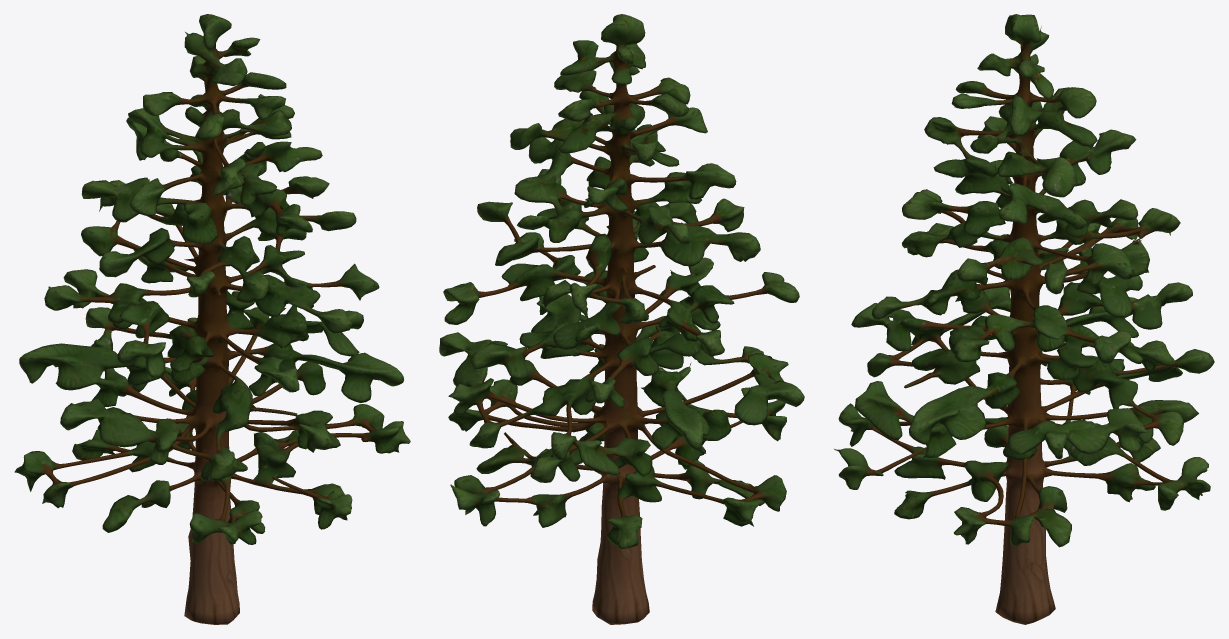
The model's file is woodland_tree_02.glb.
3 renders of one model, left to right at view 1: azimuth 30°, elevation 25°; view 2: azimuth 150°, elevation 25°; view 3: azimuth 270°, elevation 25°, orthographic.
Visible parts, largest first — view 1: tripo_node_e1df4243-b33a-4973-bbff-0929c81ec6d9; view 2: tripo_node_e1df4243-b33a-4973-bbff-0929c81ec6d9; view 3: tripo_node_e1df4243-b33a-4973-bbff-0929c81ec6d9.
Part boxes in pixels (x1=…): tripo_node_e1df4243-b33a-4973-bbff-0929c81ec6d9: x1=14, y1=14, x2=410, y2=624; tripo_node_e1df4243-b33a-4973-bbff-0929c81ec6d9: x1=439, y1=14, x2=804, y2=624; tripo_node_e1df4243-b33a-4973-bbff-0929c81ec6d9: x1=834, y1=14, x2=1214, y2=624.
Size of the model in its own units: 0.5816 by 0.986 by 0.568.
1 material, 1 textured.
